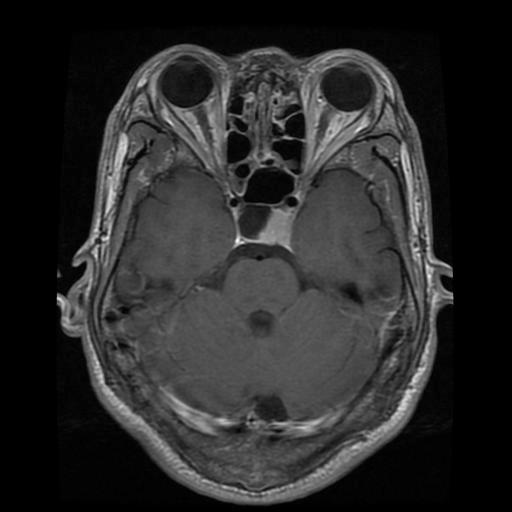Tumour-Pituitary: (228, 196, 304, 251)
